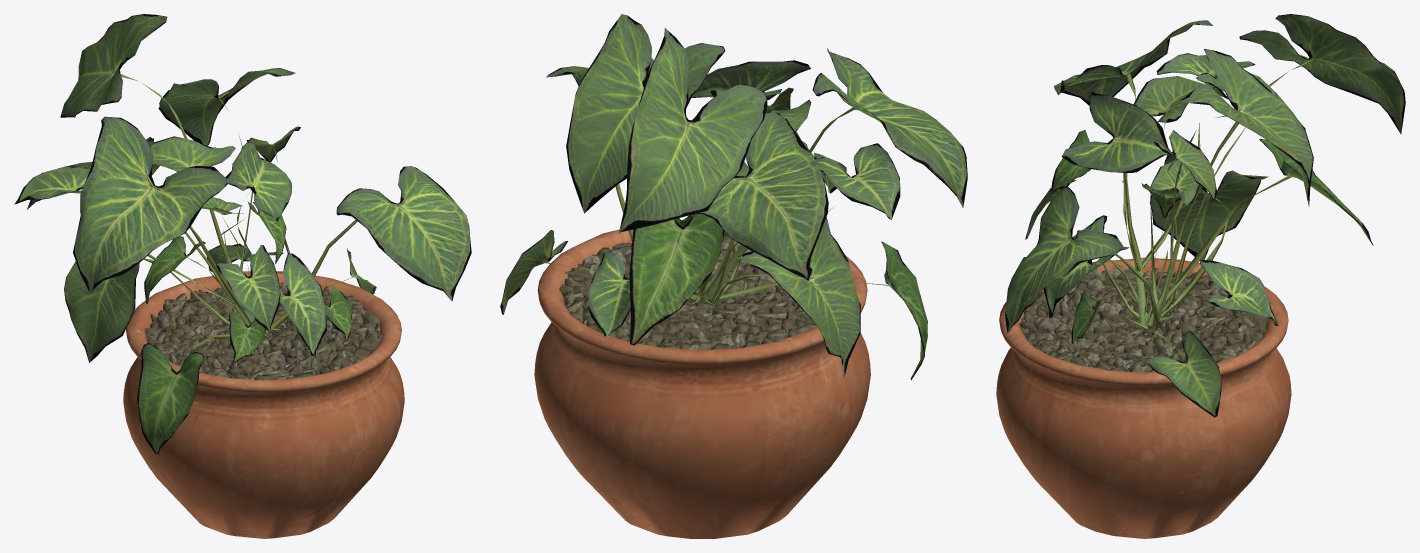
Rendered from potted_plant_02.glb.
3 views of the same model, side by side, from view 1: azimuth 30°, elevation 25°; view 2: azimuth 150°, elevation 25°; view 3: azimuth 270°, elevation 25° (orthographic). The views are drawn at different scales.
Parts seen in each view (by area): view 1: potted_plant_02_leaves, potted_plant_02_pot, potted_plant_02_dirt; view 2: potted_plant_02_leaves, potted_plant_02_pot, potted_plant_02_dirt; view 3: potted_plant_02_leaves, potted_plant_02_pot, potted_plant_02_dirt.
Part boxes in pixels (box(x1,y1,x2,y2)): potted_plant_02_leaves: box(14, 14, 471, 454); potted_plant_02_pot: box(123, 271, 404, 538); potted_plant_02_dirt: box(144, 282, 383, 380); potted_plant_02_leaves: box(500, 14, 967, 380); potted_plant_02_pot: box(534, 220, 870, 538); potted_plant_02_dirt: box(559, 233, 816, 349); potted_plant_02_leaves: box(1005, 14, 1405, 417); potted_plant_02_pot: box(996, 257, 1291, 538); potted_plant_02_dirt: box(1019, 267, 1267, 372).
Size of the model in its own units: 0.7009 by 0.8401 by 0.6574.
2 materials, 2 textured.
